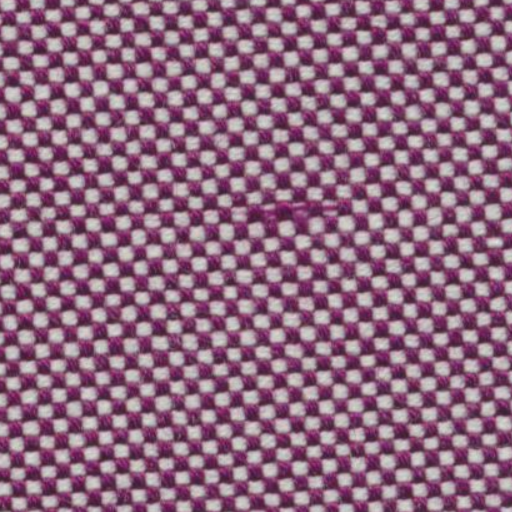DuanSha: (181, 186, 380, 226)
